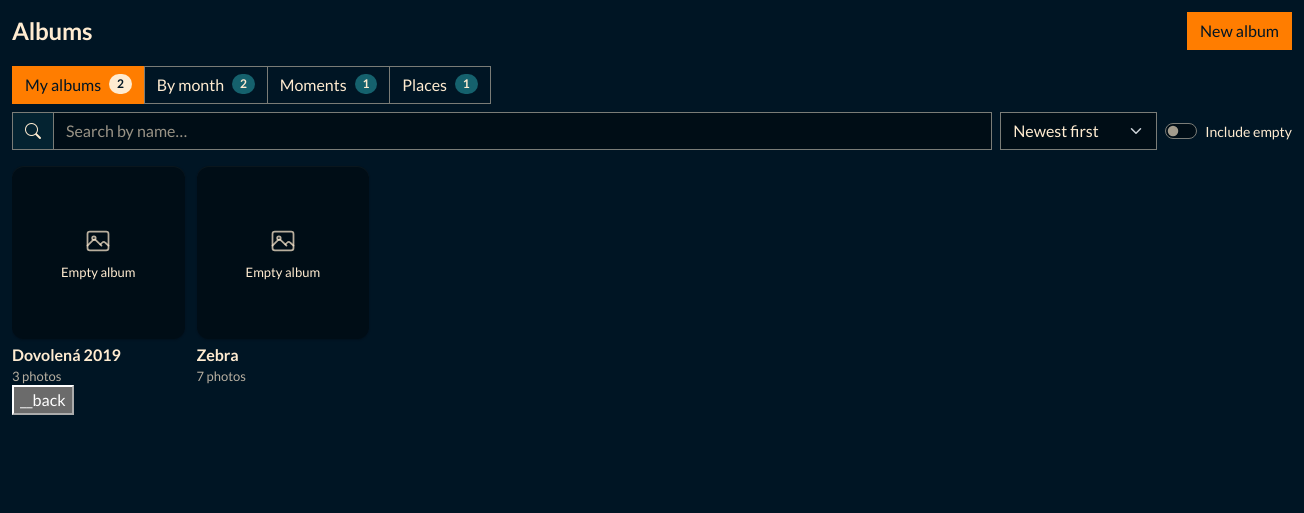
Test: AlbumsPage › offers the section counts of a search, so a miss points at where the hits are
Expected: the text "Dovolená 2019" is shown, [12, 345, 121, 364]
In the search field named "Search albums": (523, 131) [53, 112, 992, 150], type "january"
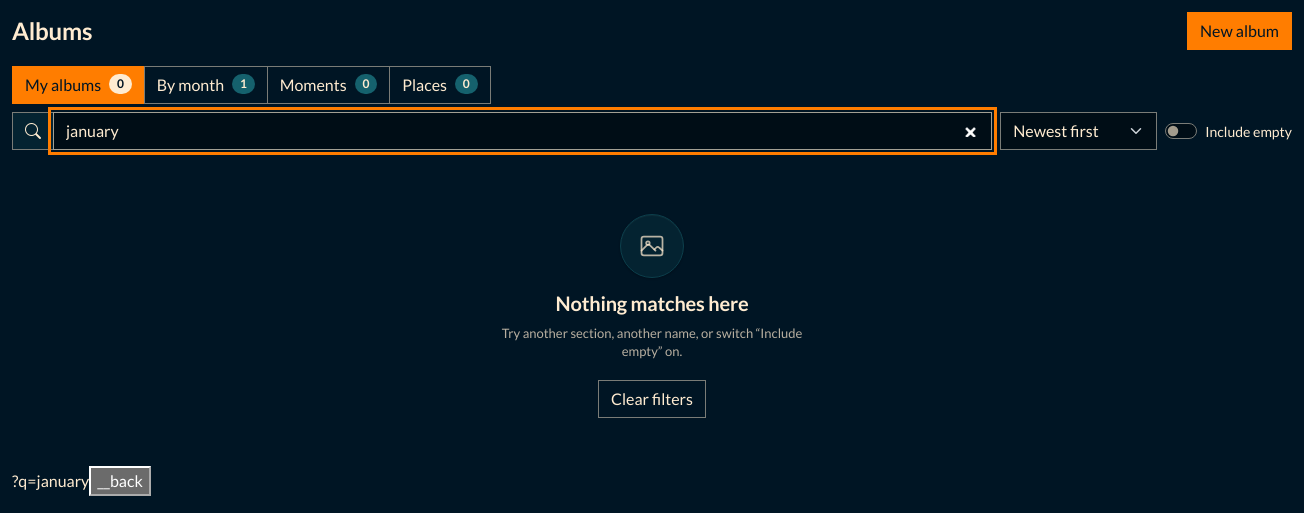
Expected: the text "Nothing matches here" is shown, [556, 290, 748, 316]
